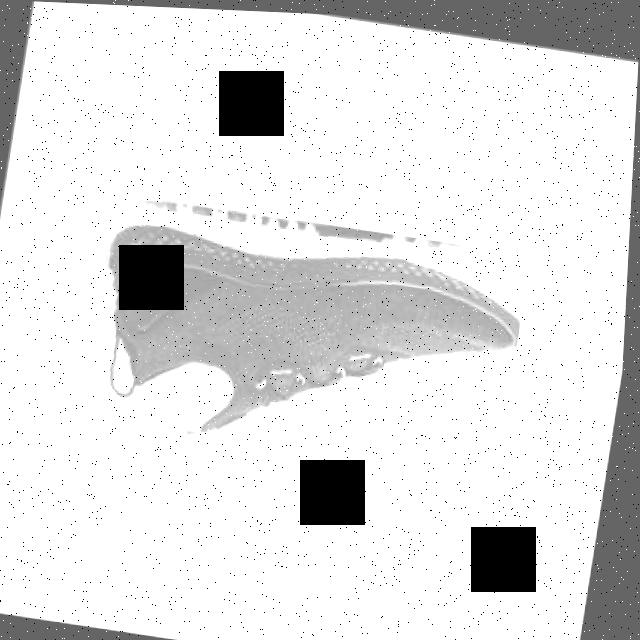shoe: (78, 190, 535, 476)
